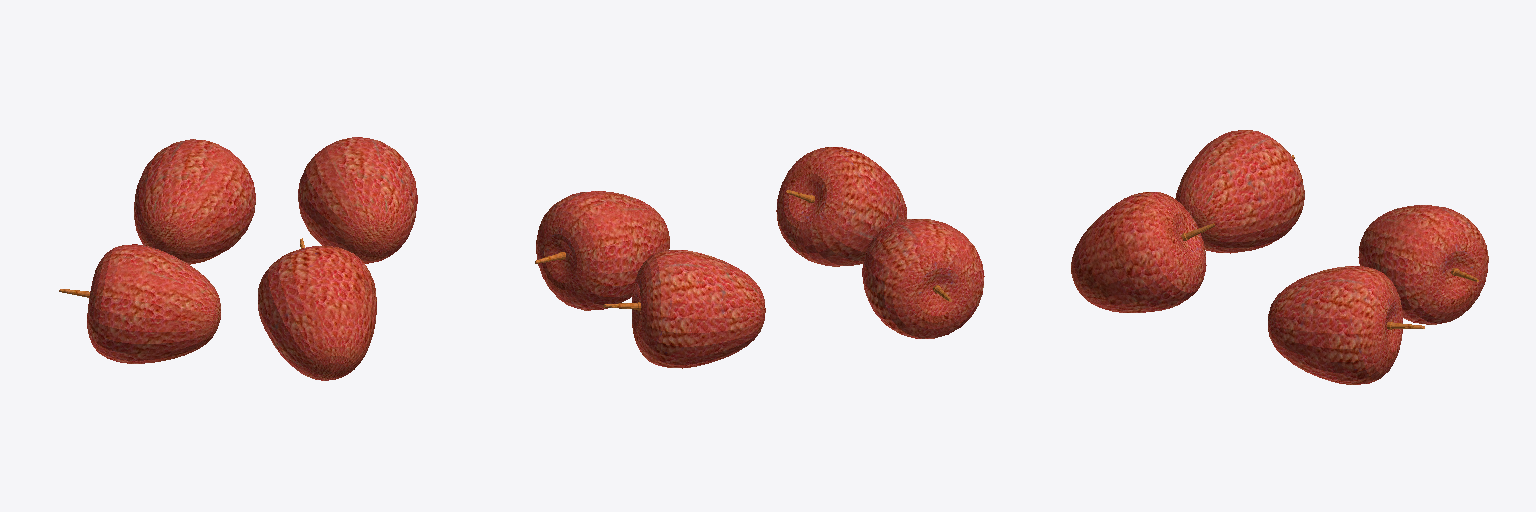
3 views of the same model, side by side, from view 1: azimuth 30°, elevation 25°; view 2: azimuth 150°, elevation 25°; view 3: azimuth 270°, elevation 25° (orthographic).
Parts seen in each view (by area): view 1: Model_130_Lychee_11, Model_130_Lychee_02, Model_130_Lychee_08, Model_130_Lychee_05; view 2: Model_130_Lychee_08, Model_130_Lychee_05, Model_130_Lychee_11, Model_130_Lychee_02; view 3: Model_130_Lychee_05, Model_130_Lychee_02, Model_130_Lychee_11, Model_130_Lychee_08.
Part boxes in pixels (x1,y1,x2,y2): Model_130_Lychee_11: (87,244,220,363); Model_130_Lychee_02: (258,246,376,380); Model_130_Lychee_08: (134,139,255,264); Model_130_Lychee_05: (298,137,417,263); Model_130_Lychee_08: (632,250,765,368); Model_130_Lychee_05: (536,191,669,310); Model_130_Lychee_11: (862,219,984,338); Model_130_Lychee_02: (776,147,906,266); Model_130_Lychee_05: (1268,266,1402,384); Model_130_Lychee_02: (1071,192,1206,312); Model_130_Lychee_11: (1175,130,1304,253); Model_130_Lychee_08: (1358,205,1488,324).
Size of the model in its own units: 100 by 28.79 by 94.76.
2 materials, 2 textured.